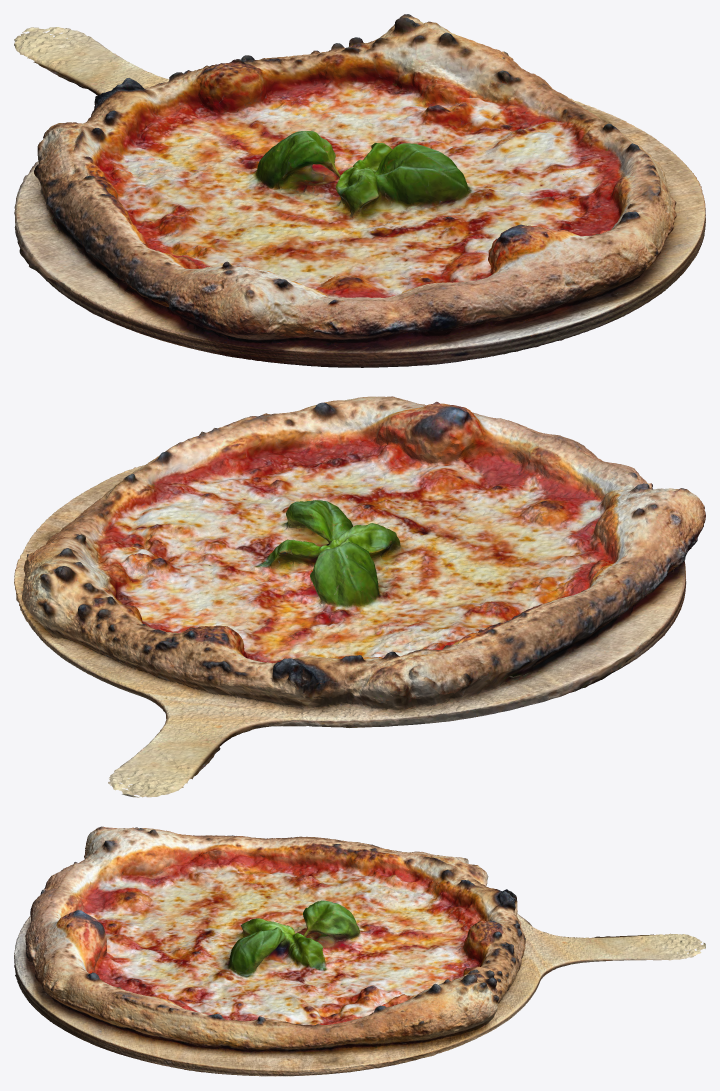
File: pizza-margherita.glb
The picture shows the model from 3 angles, top to bottom: view 1: azimuth 30°, elevation 25°; view 2: azimuth 150°, elevation 25°; view 3: azimuth 270°, elevation 25°; orthographic projection. The views are drawn at different scales.
Bounding box in the file's own units: 0.3323 × 0.0423 × 0.4314.
Materials: 1 (1 with a texture image).
